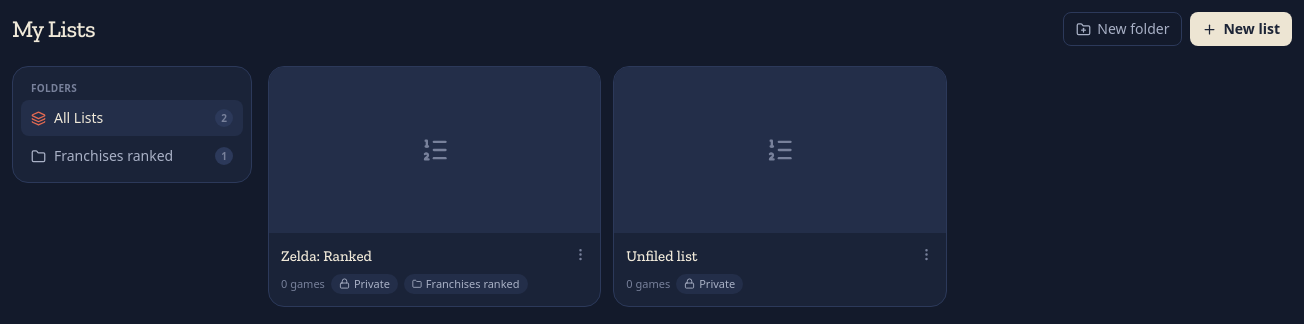
Test: ListsPage › folder rows carry live count badges and filter the grid
Check: the button "All Lists 2" is shown, box [21,100,243,136]
Click the button "Franchises ranked 1": (132, 156) [21,138,243,174]
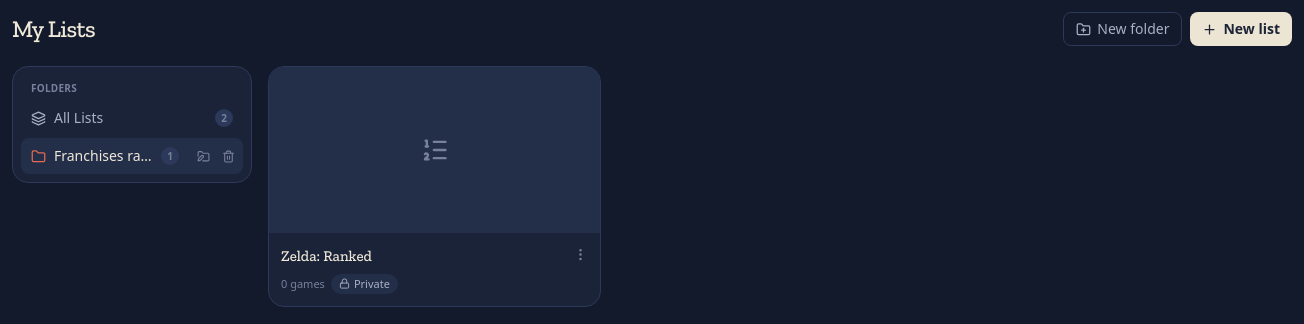
Check: the heading "Zelda: Ranked" is shown, box [281,247,372,265]
Check: the heading "Unfiled list" is gone
